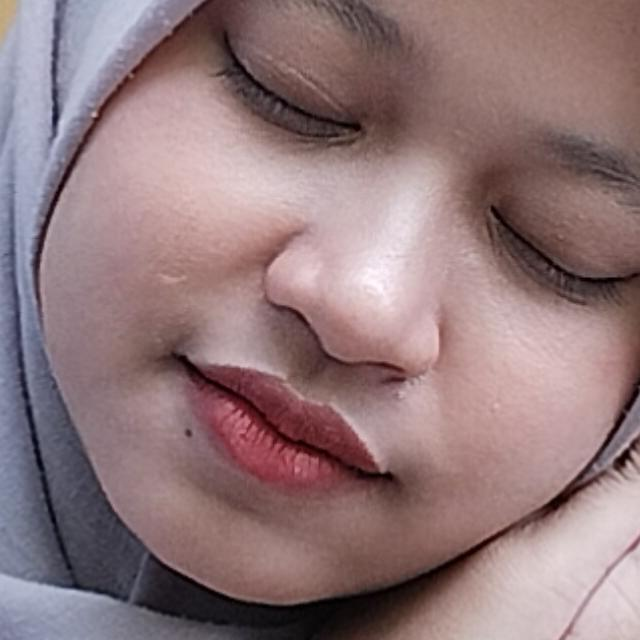tidur: (26, 108, 640, 640)
